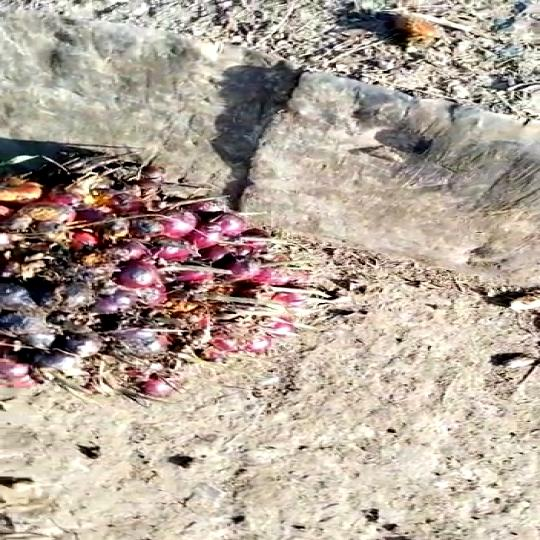masak: (0, 143, 297, 396)
